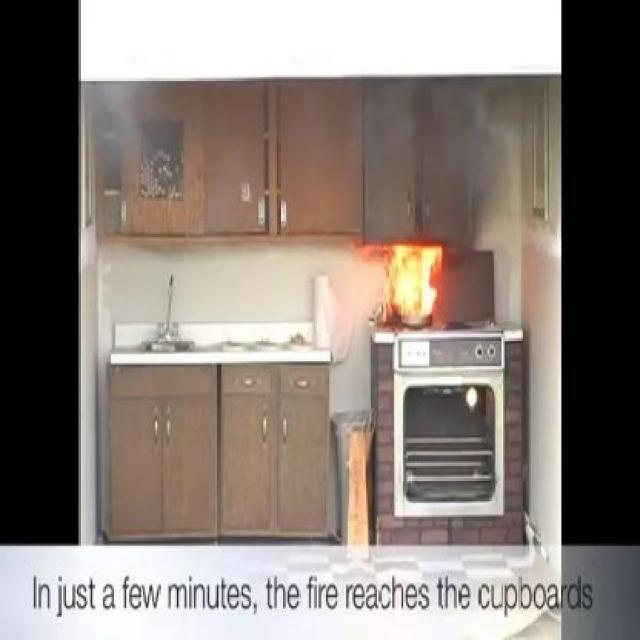fire: (358, 244, 446, 336)
